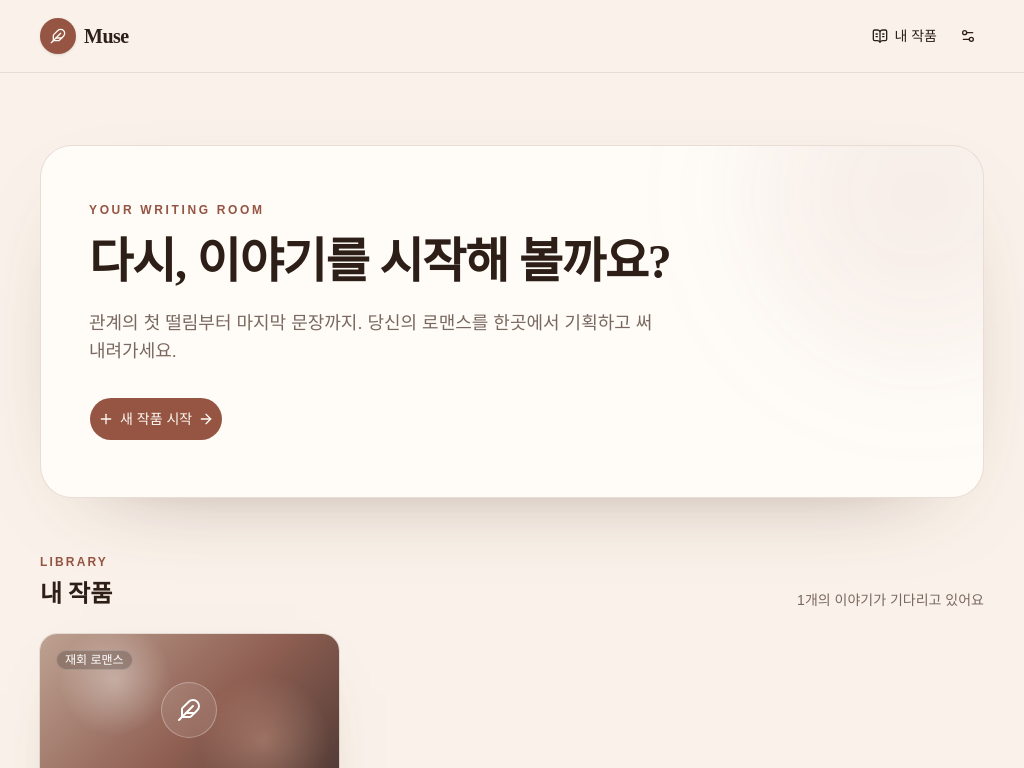
Scenario: core writing journey › opens trope selection from the project library
The width and height of the screenshot is (1024, 768).
Expected: the heading "다시, 이야기를 시작해 볼까요?" is shown, [89, 234, 761, 289]
Click the link "새 작품 시작" at (156,419), box [89, 397, 223, 441]
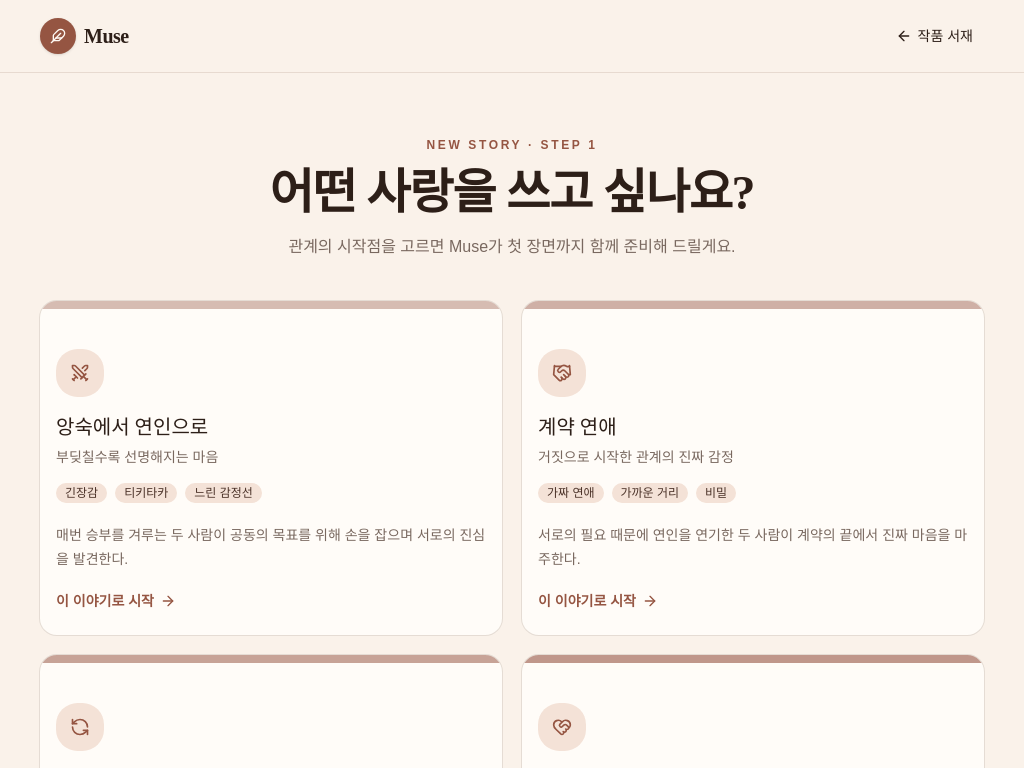
Expected: the heading "어떤 사랑을 쓰고 싶나요?" is shown, [270, 166, 754, 219]
